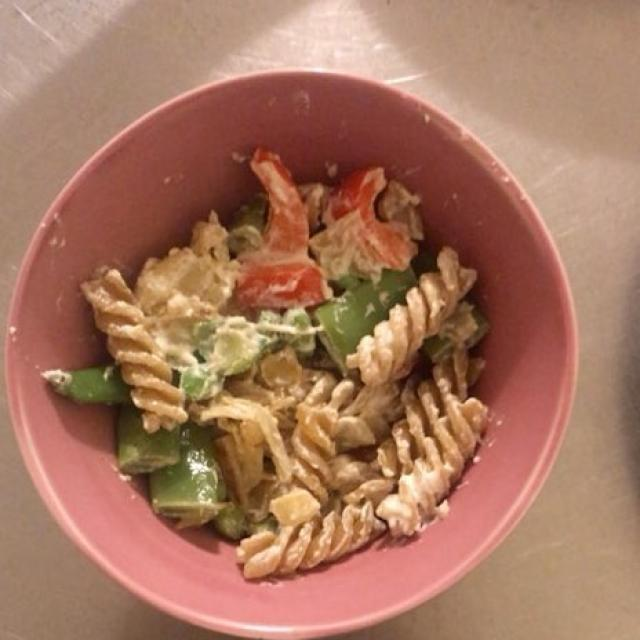bell-pepper: (241, 153, 402, 308)
pasta: (103, 249, 492, 556)
